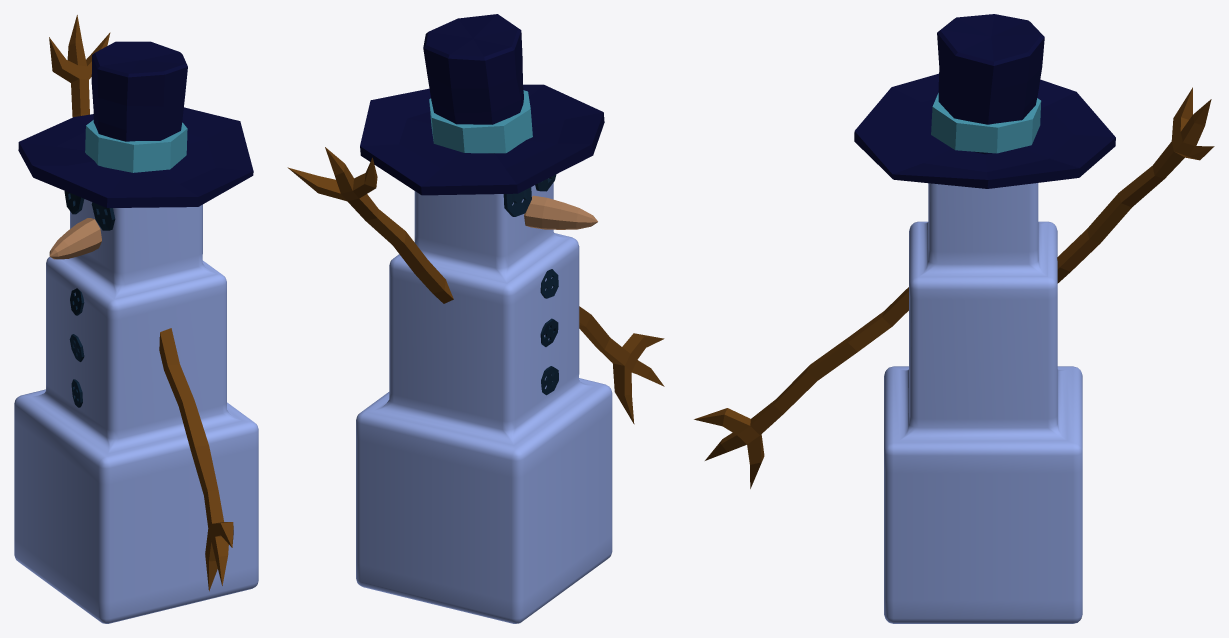
File: UnitedTorsoSnowman.fbx
3 views of the same model, side by side, from view 1: azimuth 30°, elevation 25°; view 2: azimuth 150°, elevation 25°; view 3: azimuth 270°, elevation 25° (orthographic). The views are drawn at different scales.
Visible parts, largest first — view 1: Cube, Cylinder.003, Cube.001, Cylinder.002, Cube.002, Cylinder.004, Cylinder.001; view 2: Cube, Cylinder.003, Cube.002, Cylinder.002, Cube.001, Cylinder.004, Cylinder; view 3: Cube, Cylinder.003, Cube.001, Cube.002, Cylinder.002.
Part boxes in pixels (bbox=[...]): Cube: bbox=[14, 199, 258, 623]; Cylinder.003: bbox=[18, 41, 253, 207]; Cube.001: bbox=[159, 328, 233, 591]; Cylinder.002: bbox=[85, 120, 187, 172]; Cube.002: bbox=[49, 15, 110, 117]; Cylinder.004: bbox=[49, 218, 101, 259]; Cylinder.001: bbox=[91, 202, 115, 230]; Cube: bbox=[356, 183, 612, 623]; Cylinder.003: bbox=[360, 14, 604, 195]; Cube.002: bbox=[287, 147, 453, 303]; Cylinder.002: bbox=[429, 90, 532, 153]; Cube.001: bbox=[579, 306, 664, 424]; Cylinder.004: bbox=[524, 195, 597, 229]; Cylinder: bbox=[503, 187, 531, 216]; Cube: bbox=[884, 183, 1082, 623]; Cylinder.003: bbox=[854, 14, 1115, 188]; Cube.001: bbox=[694, 287, 908, 488]; Cube.002: bbox=[1057, 87, 1214, 283]; Cylinder.002: bbox=[931, 93, 1041, 153].
Size of the model in its own units: 2.63 by 5.25 by 6.21.
